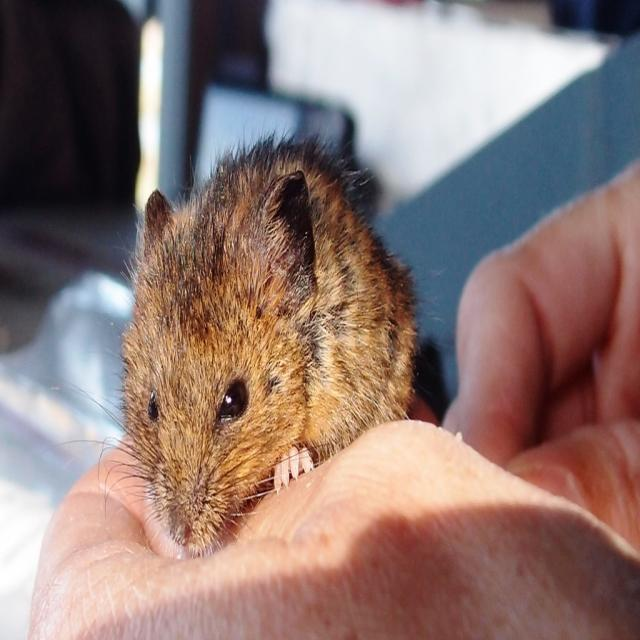rat: (119, 139, 422, 558)
